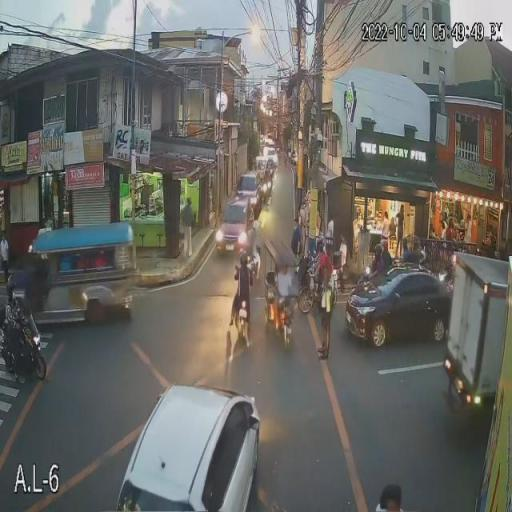helmet: (10, 288, 32, 310), (239, 250, 249, 267)
motorcycle: (0, 328, 53, 379), (233, 303, 252, 348)
rider: (4, 305, 41, 346), (235, 267, 254, 308)
